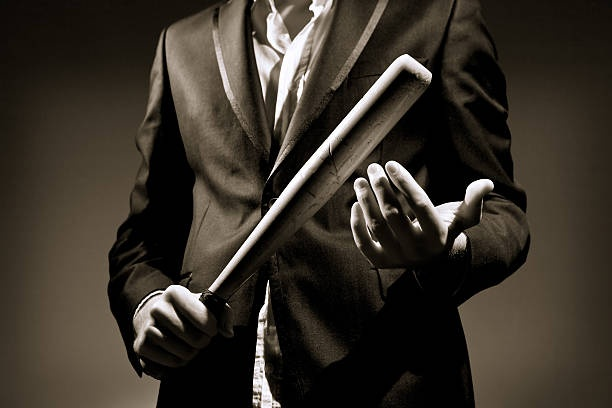bita: (197, 67, 424, 305)
